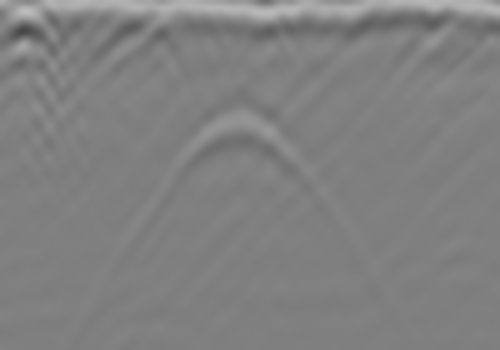hyperbola: (91, 89, 396, 350)
